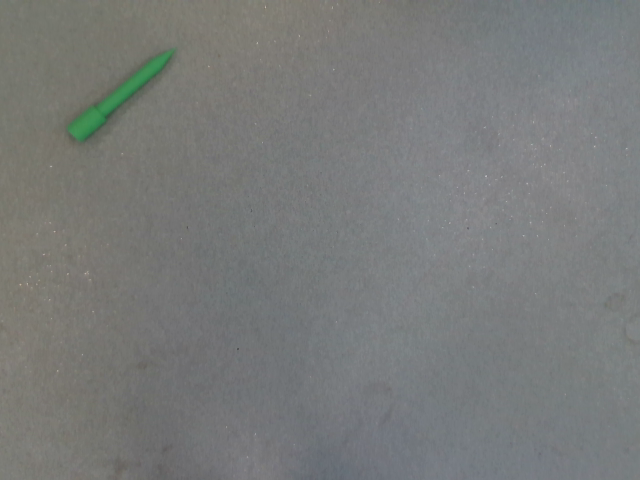Probe: (63, 38, 182, 155)
